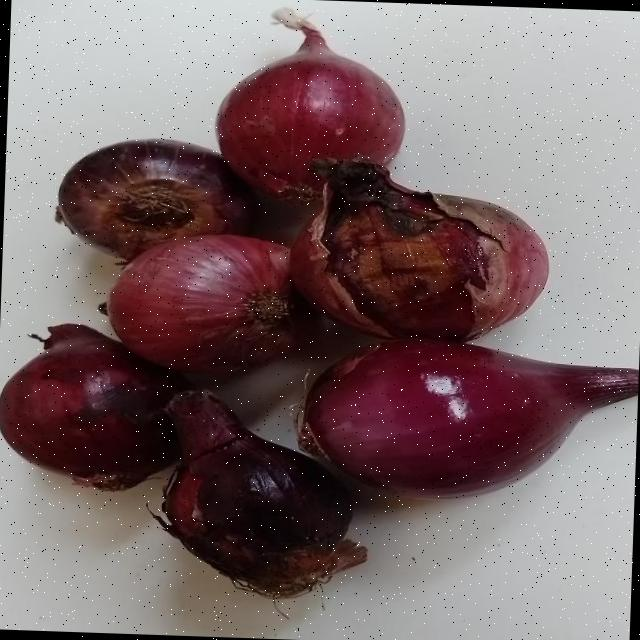Onion: (298, 339, 638, 498), (291, 158, 549, 341), (216, 27, 405, 200), (101, 234, 313, 374), (55, 139, 252, 261)
